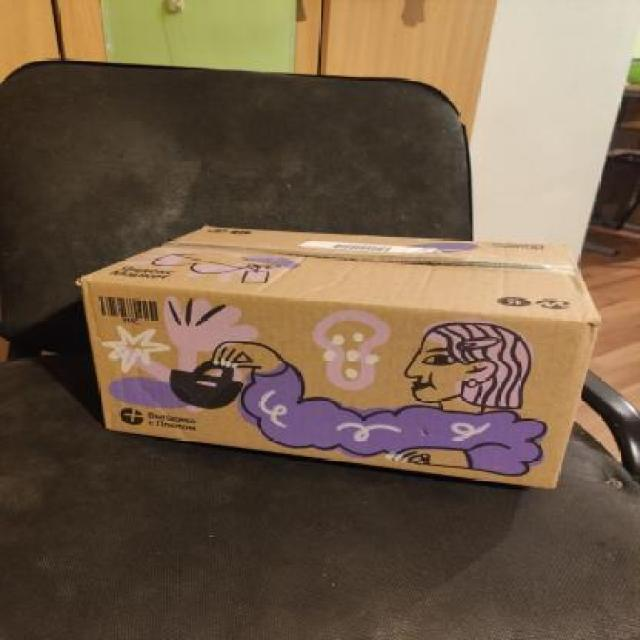box: (79, 218, 588, 492)
